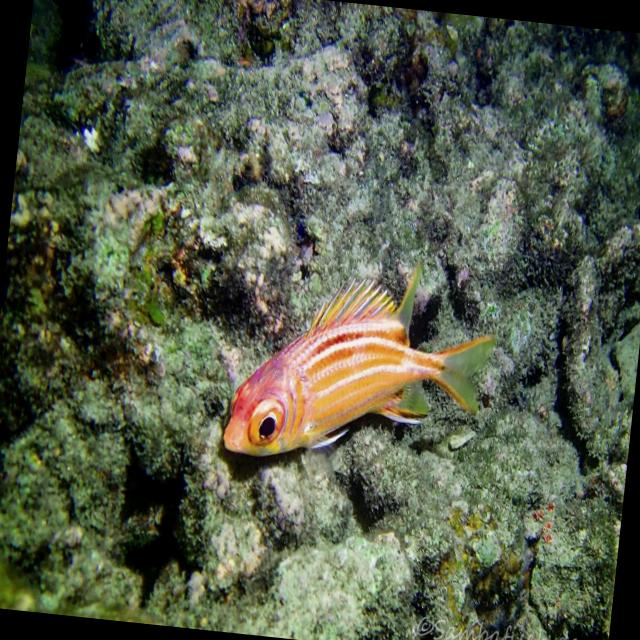Asker Baligi: (218, 239, 503, 481)
